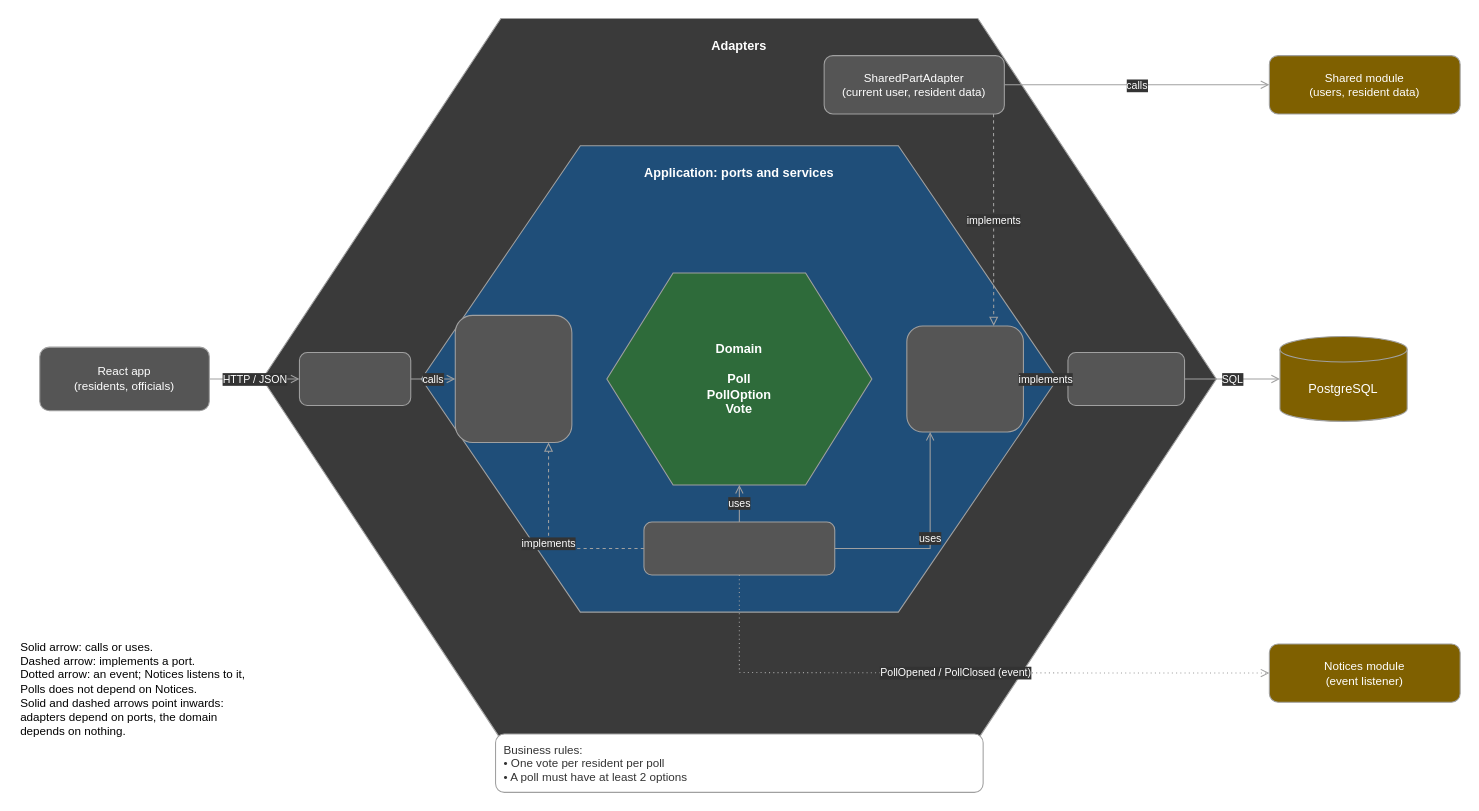
Image size: 1479x811. Some labels were removed from this diagram. The centre of each missing label's shape, as x and y in pixels:
Persistence adapter (JPA): the point at 1126,378
PollsController (REST): the point at 354,378
PollsService (implements the use cases): the point at 739,548
port/in CreatePoll OpenPoll ClosePoll CastVote GetPollResults: the point at 513,378
port/out Polls CurrentUser ResidentDirectory: the point at 964,378
